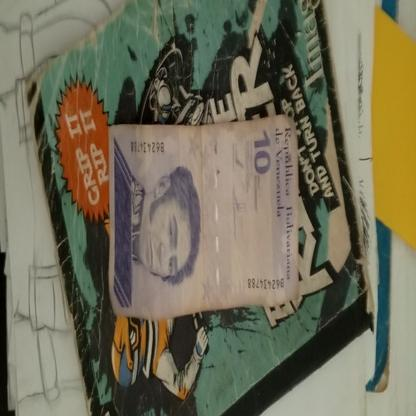ten-front-vef: (108, 117, 300, 319)
